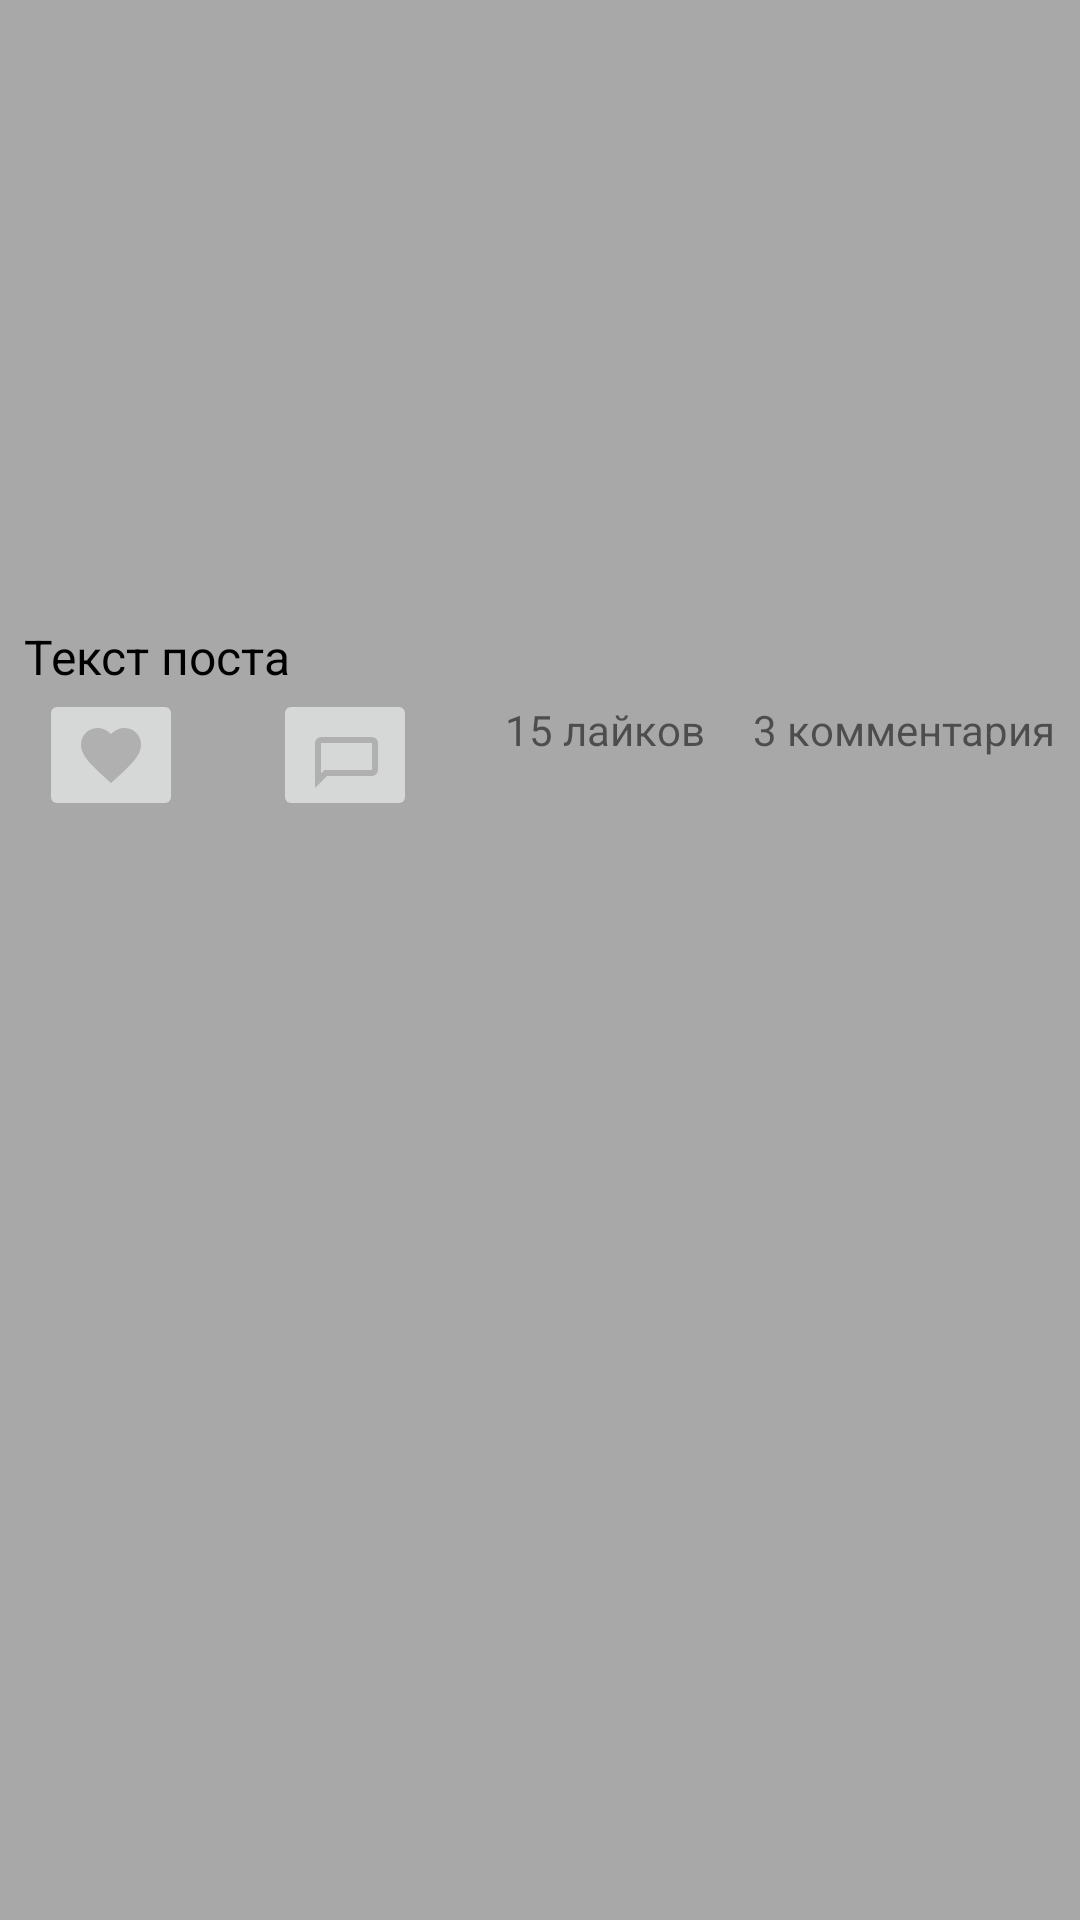

Icon click points for this 1080x1920 phone screenshot, format (x,y):
comment: (345,755)
heart: (111,755)
